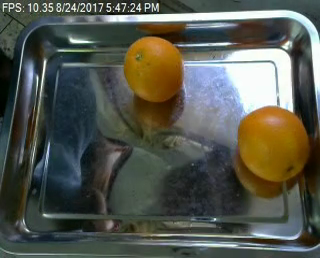Orange: (237, 105, 310, 181), (123, 36, 185, 103)
